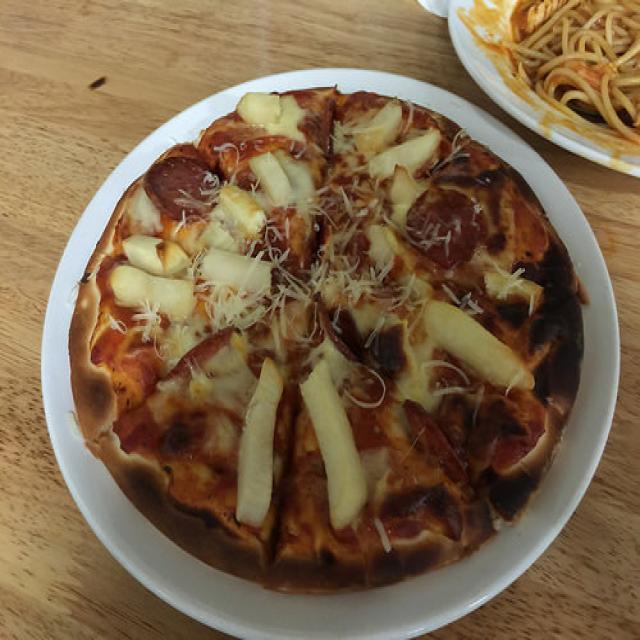Wet Waste: (62, 75, 592, 601)
